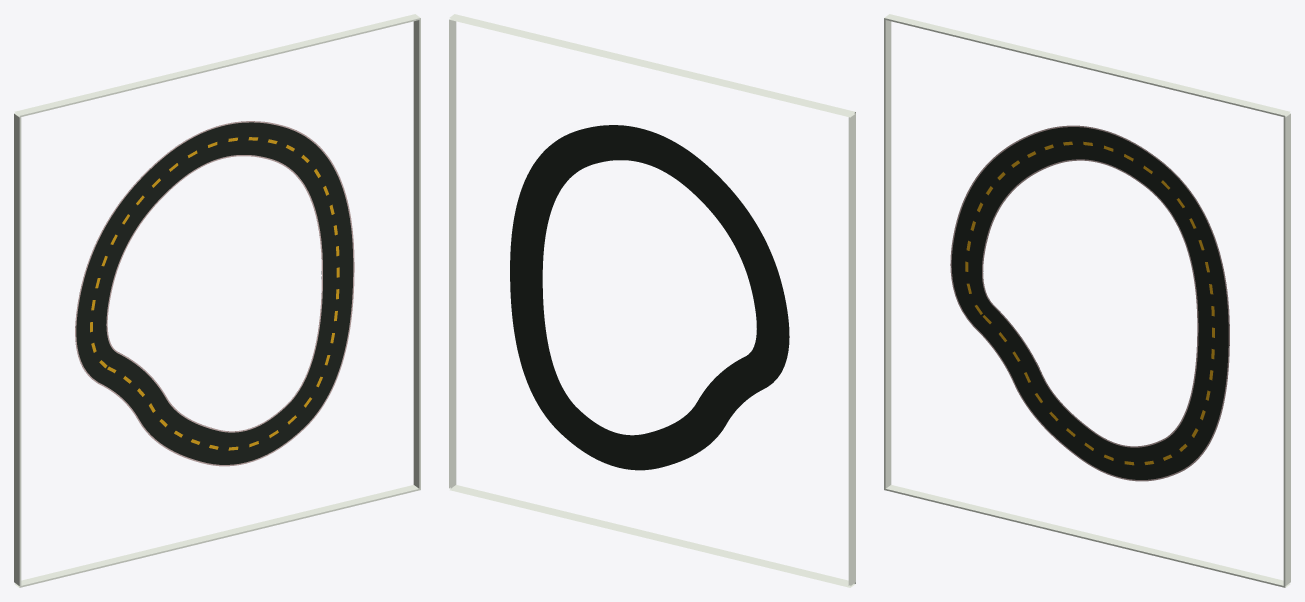
Rendered from track.obj.
The picture shows the model from 3 angles, left to right: view 1: azimuth 30°, elevation 25°; view 2: azimuth 150°, elevation 25°; view 3: azimuth 330°, elevation 25°; orthographic projection.
Size of the model in its own units: 12.68 by 14.26 by 0.3.
